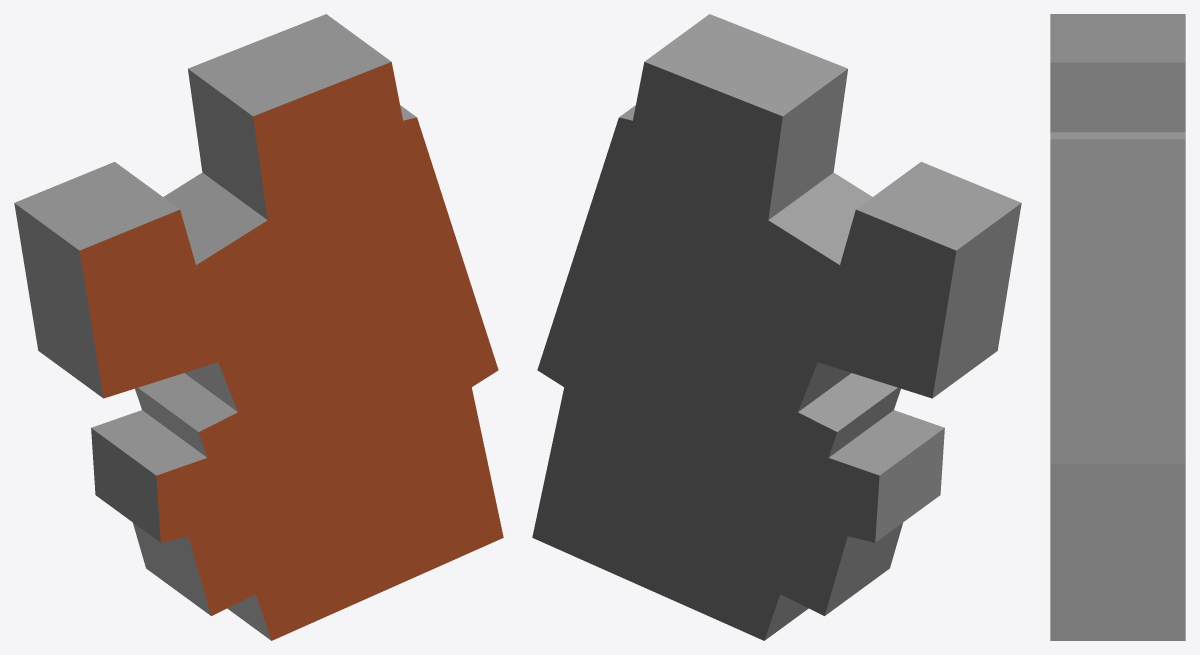
Rendered from construction_0341_assumed_A_Casa_h6m.obj.
3 views of the same model, side by side, from view 1: azimuth 30°, elevation 25°; view 2: azimuth 150°, elevation 25°; view 3: azimuth 270°, elevation 25° (orthographic). The views are drawn at different scales.
Visible parts, largest first — view 1: construction_0341_assumed_A_Casa; view 2: construction_0341_assumed_A_Casa; view 3: construction_0341_assumed_A_Casa.
Part boxes in pixels (x1=…): construction_0341_assumed_A_Casa: x1=14, y1=14, x2=503, y2=640; construction_0341_assumed_A_Casa: x1=532, y1=14, x2=1021, y2=640; construction_0341_assumed_A_Casa: x1=1050, y1=14, x2=1185, y2=640.
Bounding box in the file's own units: 22.49 × 27.86 × 6.
